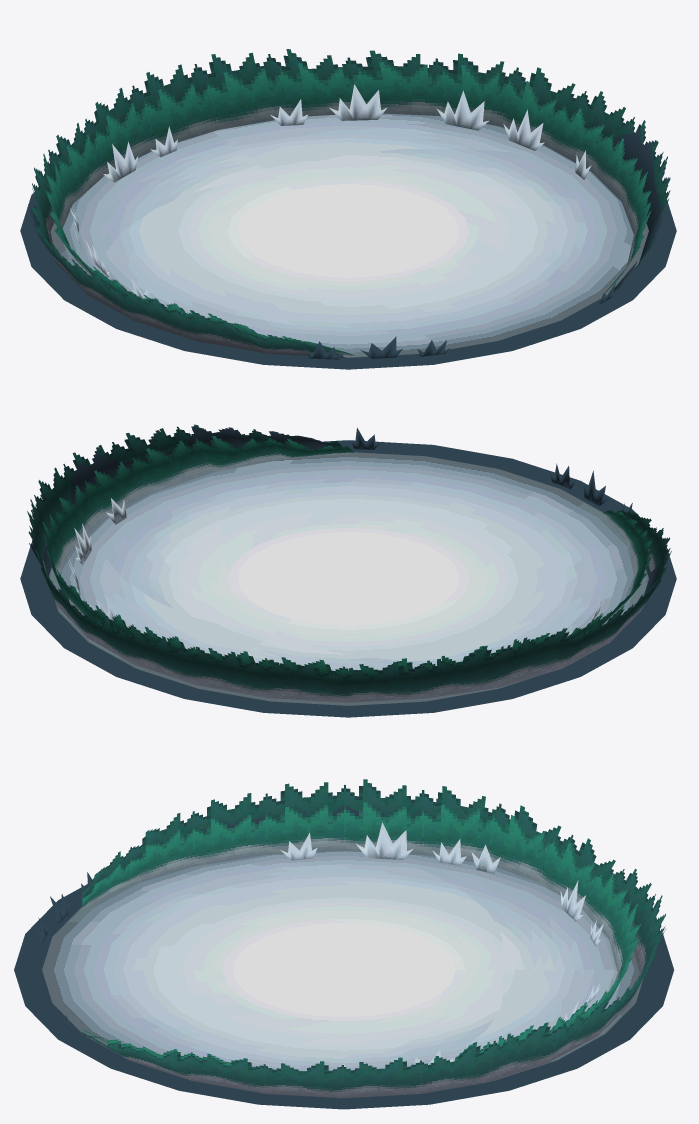
Rendered from Grass_w_snow_2.fbx.
The picture shows the model from 3 angles, top to bottom: view 1: azimuth 30°, elevation 25°; view 2: azimuth 150°, elevation 25°; view 3: azimuth 270°, elevation 25°; orthographic projection.
Visible parts, largest first — view 1: polygon6, polygon1, polygon2, polygon5, polygon4, polygon0, polygon3; view 2: polygon6, polygon2, polygon5, polygon1, polygon0, polygon3, polygon4; view 3: polygon6, polygon2, polygon1, polygon5, polygon4, polygon3.
Part boxes in pixels (box(x1,y1,x2,y2)): polygon6: box(50, 113, 648, 357); polygon1: box(45, 62, 652, 355); polygon2: box(31, 49, 670, 357); polygon5: box(20, 192, 676, 369); polygon4: box(70, 84, 591, 299); polygon0: box(27, 130, 670, 291); polygon3: box(304, 282, 616, 359); polygon6: box(49, 452, 648, 705); polygon2: box(27, 424, 671, 702); polygon5: box(20, 440, 676, 717); polygon1: box(42, 436, 652, 676); polygon0: box(28, 426, 667, 595); polygon3: box(350, 427, 632, 512); polygon4: box(68, 498, 603, 670); polygon6: box(42, 851, 643, 1080); polygon2: box(82, 779, 665, 1098); polygon1: box(82, 802, 640, 1071); polygon5: box(14, 884, 673, 1109); polygon4: box(280, 822, 604, 1066); polygon3: box(36, 872, 92, 1032).
Bounding box in the file's own units: 1163 × 159 × 1114.
